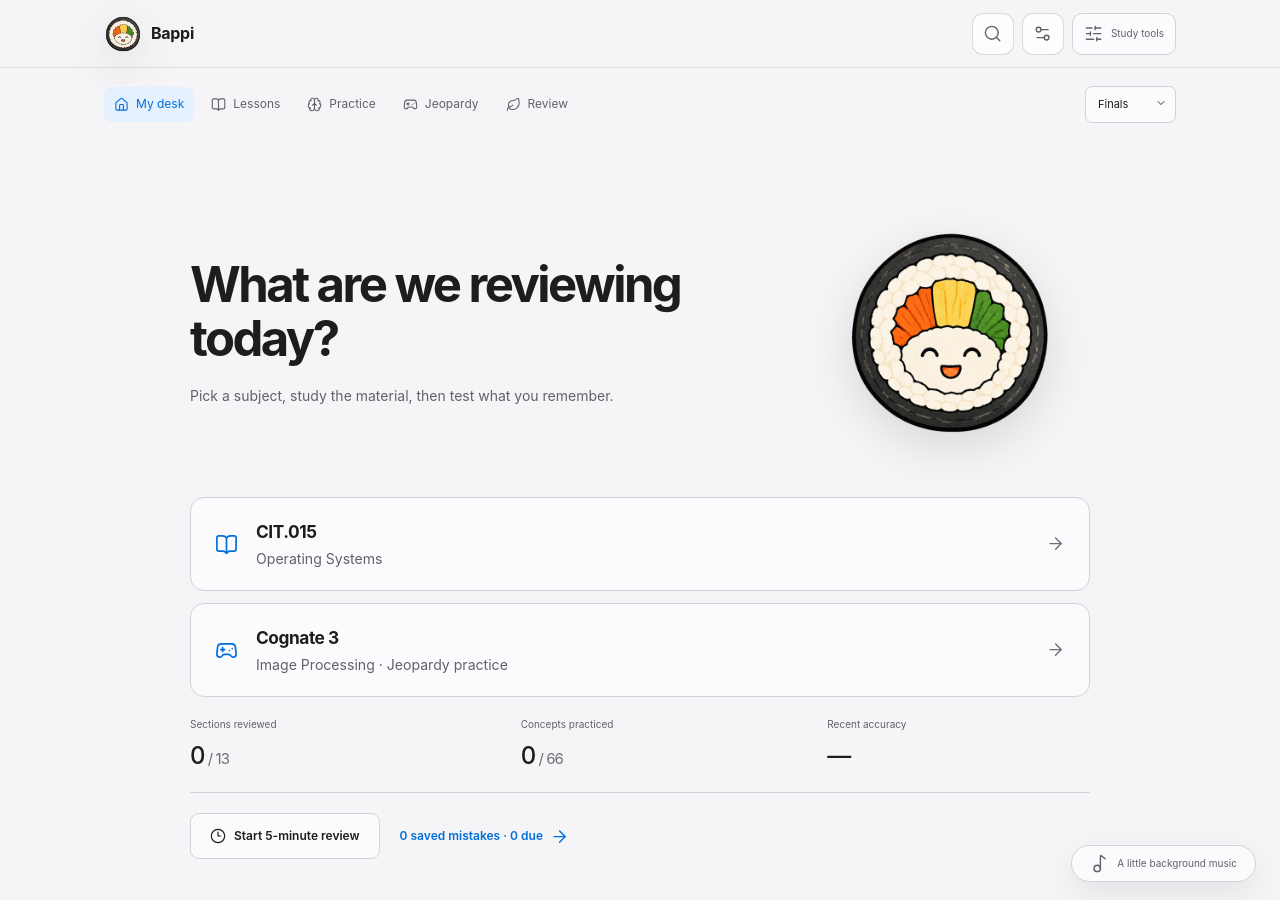
Test case: Bappi study desk navigation › keeps Bappi playful while calm mode pauses its automatic movement
This screenshot has width=1280, height=900.
Click the button named "Play with Bappi": (950, 333) [841,224,1059,442]
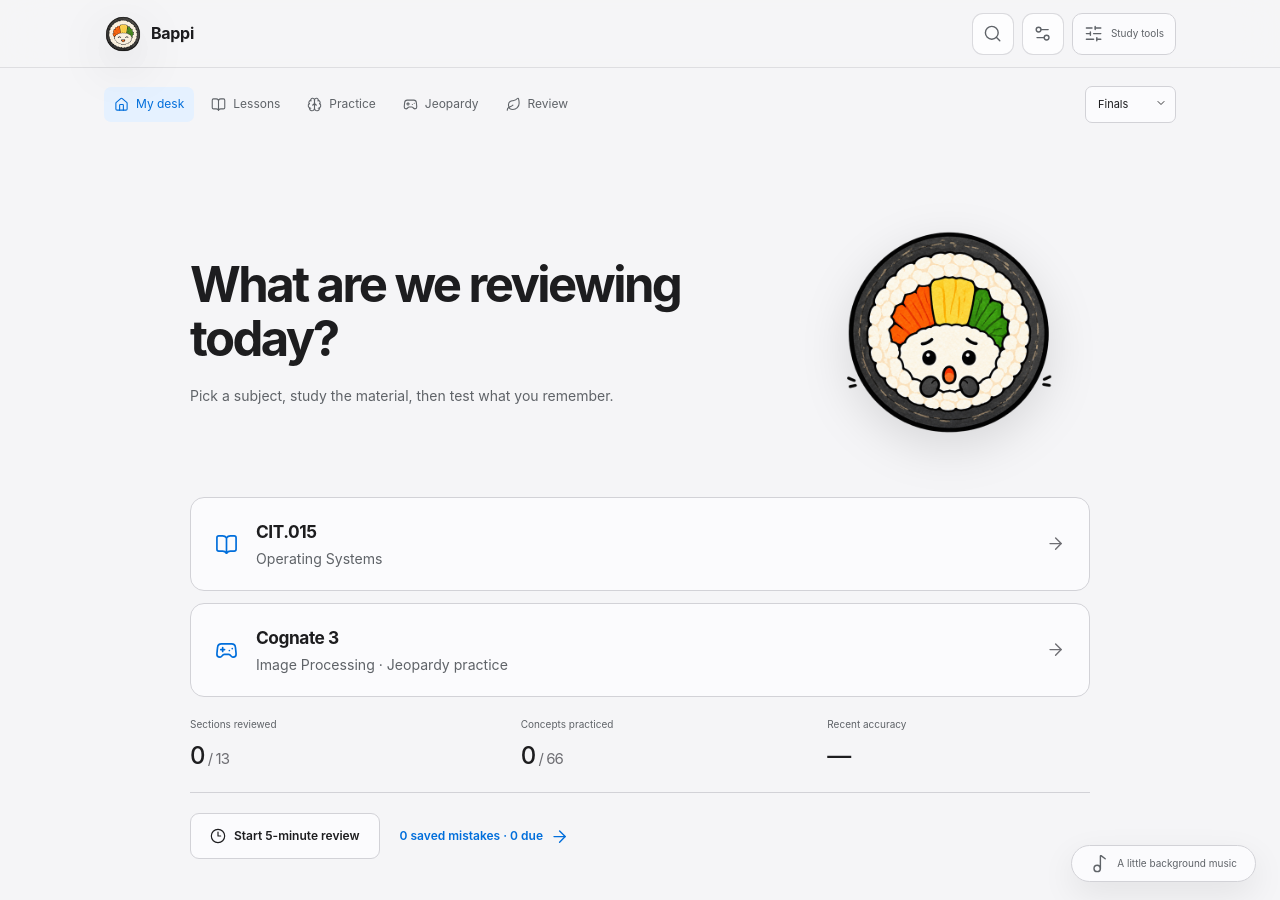
Now the picture named "bappi looks startled" is shown, box [841,224,1059,442]
